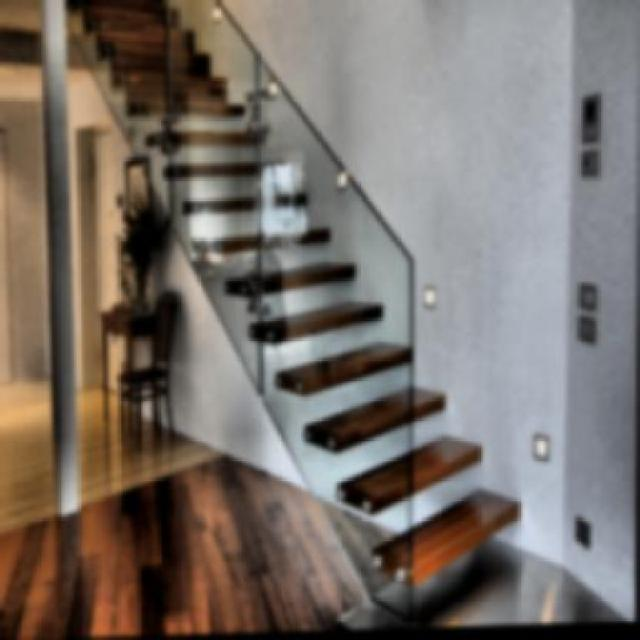stair: (194, 103, 531, 526)
